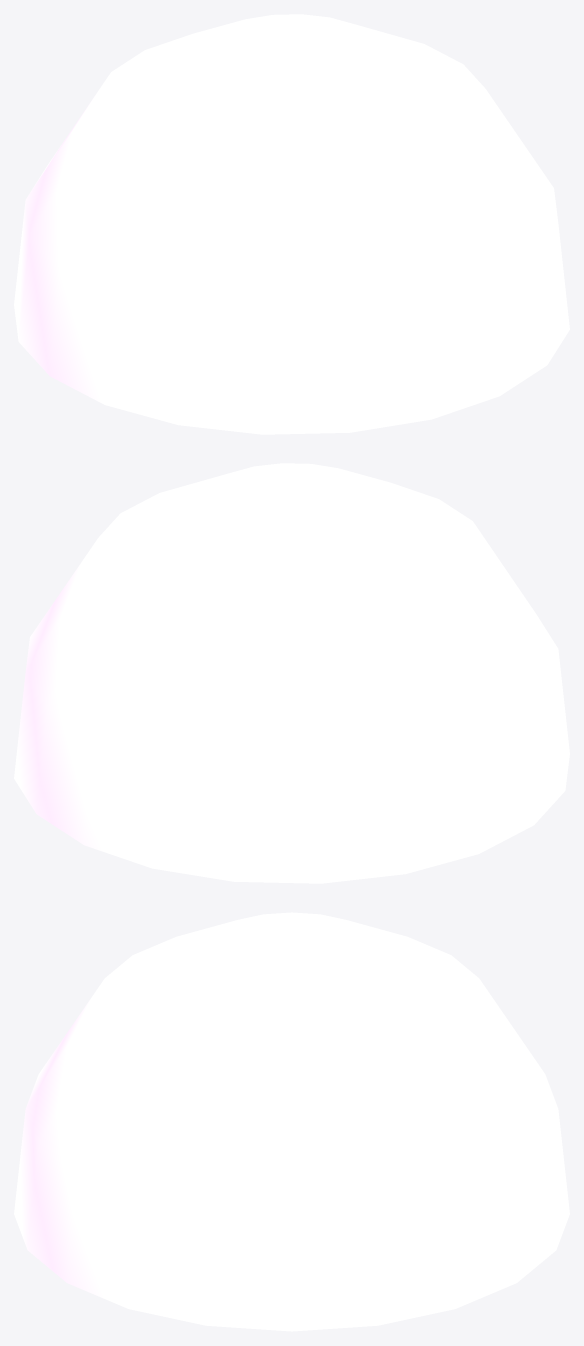
Rendered from GlowDrop_Pink.fbx.
3 views of the same model, one above another, from view 1: azimuth 30°, elevation 25°; view 2: azimuth 150°, elevation 25°; view 3: azimuth 270°, elevation 25° (orthographic).
Visible parts, largest first — view 1: GlowDrop_Pink; view 2: GlowDrop_Pink; view 3: GlowDrop_Pink.
Boxes of the visible parts, <box> form: GlowDrop_Pink: <box>14,14,569,434</box>; GlowDrop_Pink: <box>14,463,569,883</box>; GlowDrop_Pink: <box>14,912,569,1331</box>.
Bounding box in the file's own units: 2.4 × 1.3 × 2.4.
